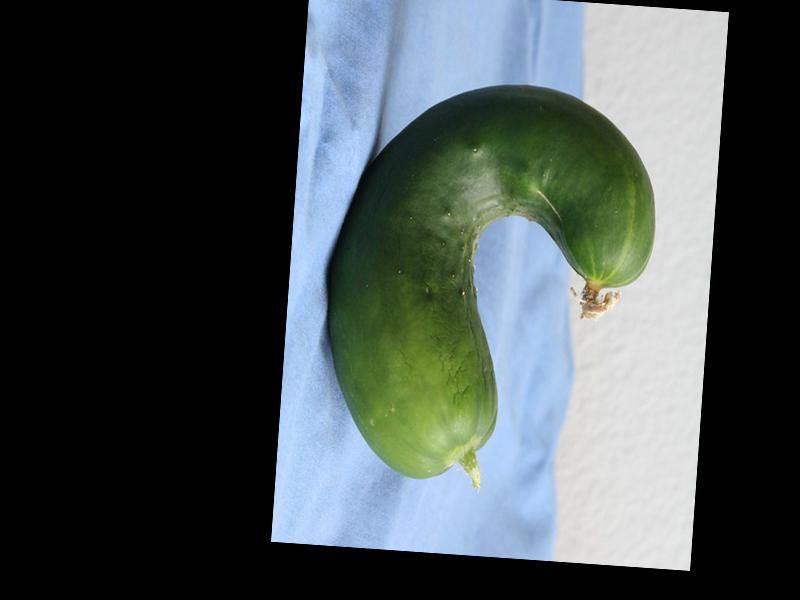Cucumber: (315, 71, 665, 494)
